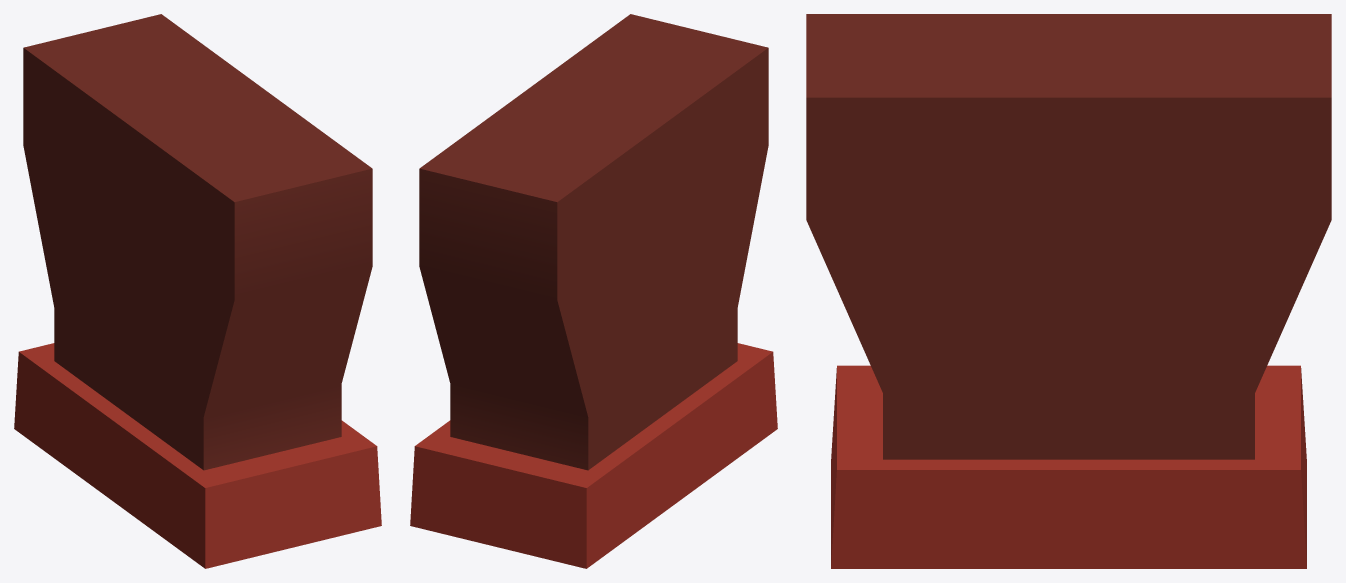
Rendered from Pipe_1_E_5.fbx.
3 renders of one model, left to right at view 1: azimuth 30°, elevation 25°; view 2: azimuth 150°, elevation 25°; view 3: azimuth 270°, elevation 25°, orthographic. The views are drawn at different scales.
Parts seen in each view (by area): view 1: Pipe_1_E_5; view 2: Pipe_1_E_5; view 3: Pipe_1_E_5.
Boxes of the visible parts, x1,y1,x2,y2 form: Pipe_1_E_5: [14, 14, 381, 568]; Pipe_1_E_5: [410, 14, 777, 568]; Pipe_1_E_5: [806, 14, 1331, 568].
Bounding box in the file's own units: 17 × 34.01 × 35.24.
